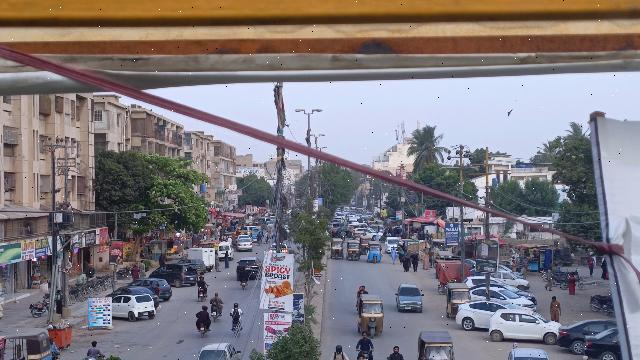Bike: (210, 306, 225, 324), (229, 319, 244, 336), (196, 320, 209, 339), (355, 348, 375, 359), (195, 286, 208, 302), (239, 276, 250, 291)
Car: (485, 307, 561, 344), (556, 317, 611, 352), (454, 298, 512, 331), (110, 292, 158, 322), (580, 325, 617, 359), (150, 262, 198, 288), (134, 276, 173, 300), (394, 282, 424, 313), (196, 342, 243, 360), (242, 256, 261, 279)
Person: (547, 295, 562, 319), (356, 331, 374, 351), (329, 343, 349, 360), (543, 264, 554, 293), (194, 304, 211, 322), (387, 345, 407, 360), (229, 301, 243, 321), (209, 290, 223, 307), (195, 274, 210, 289), (239, 266, 249, 279)
Rickshaw: (356, 294, 386, 339), (416, 328, 456, 360), (443, 282, 470, 319), (345, 239, 362, 263), (366, 241, 382, 264), (329, 238, 345, 260)
Truck: (185, 245, 217, 270)
